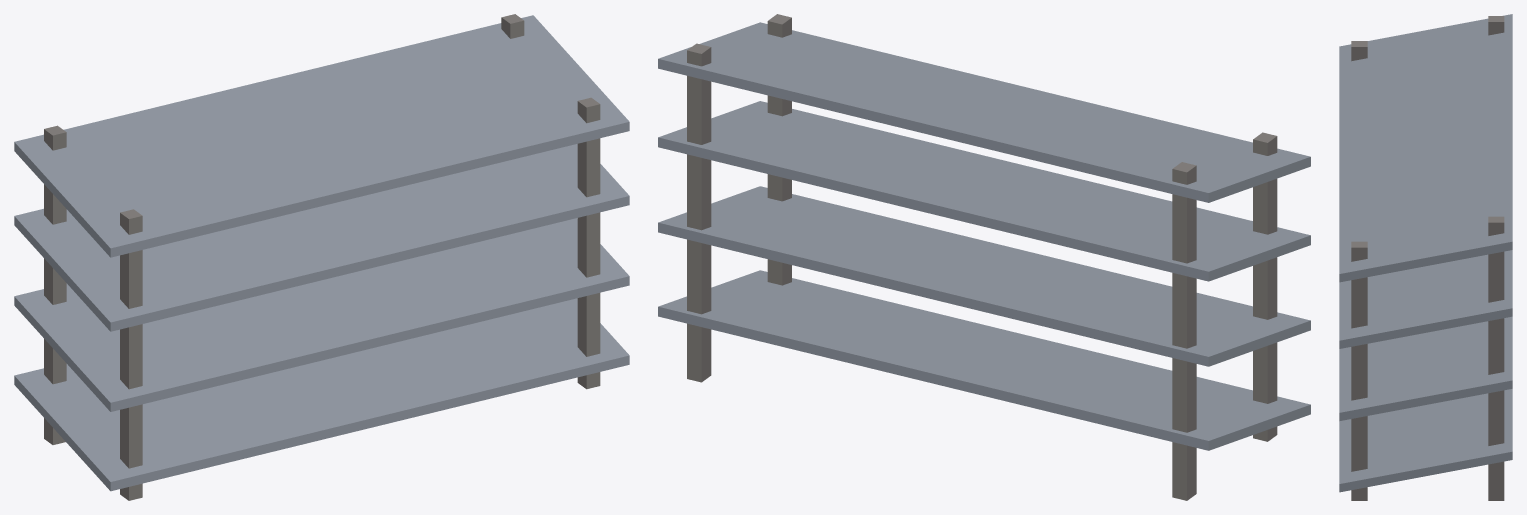
The model's file is Shelf5.glb.
The picture shows the model from 3 angles, left to right: view 1: azimuth 30°, elevation 25°; view 2: azimuth 150°, elevation 25°; view 3: azimuth 270°, elevation 25°; orthographic projection. The views are drawn at different scales.
Visible parts, largest first — view 1: SI_Prop_Shelf_05; view 2: SI_Prop_Shelf_05; view 3: SI_Prop_Shelf_05.
Boxes of the visible parts, x1=… form: SI_Prop_Shelf_05: x1=14, y1=14, x2=629, y2=500; SI_Prop_Shelf_05: x1=658, y1=14, x2=1310, y2=500; SI_Prop_Shelf_05: x1=1339, y1=14, x2=1512, y2=500.
Bounding box in the file's own units: 0.0463 × 0.0264 × 0.0149.
1 material, 1 textured.
